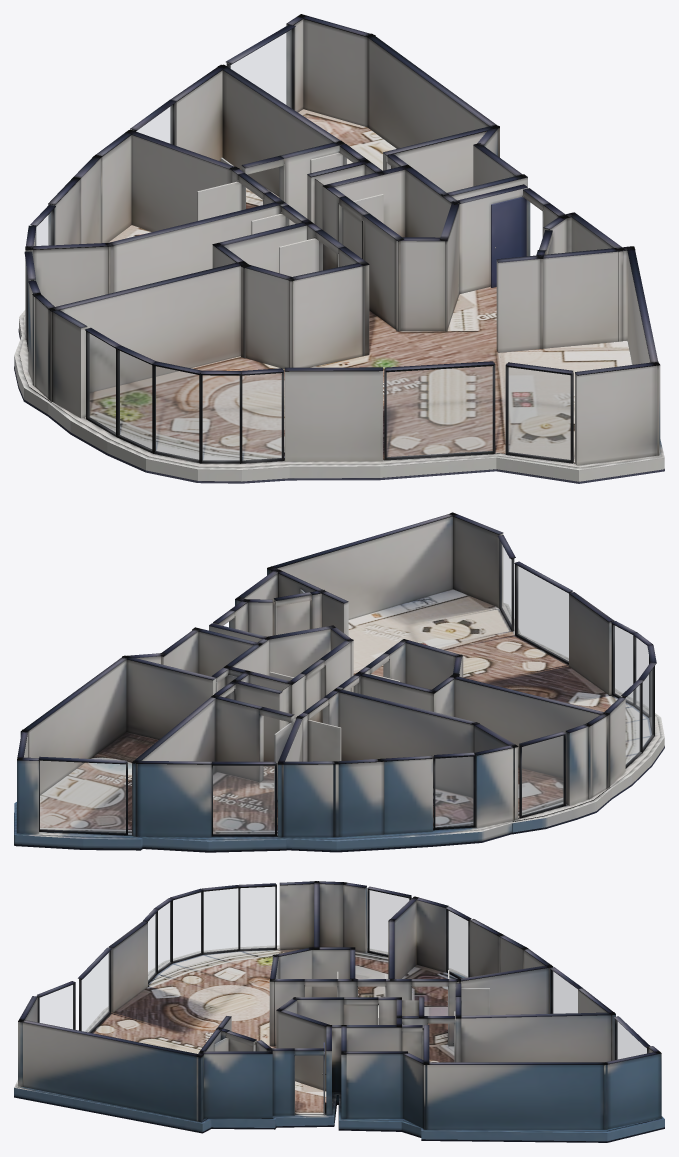
3 renders of one model, top to bottom at view 1: azimuth 30°, elevation 25°; view 2: azimuth 150°, elevation 25°; view 3: azimuth 270°, elevation 25°, orthographic. The views are drawn at different scales.
Parts seen in each view (by area): view 1: plan, glass9_m, glass10_m, glass6_m, glass8_m, glass7_m, glass5_m, glass1_m, glass4_m, glass0_m; view 2: plan, glass1_m, glass0_m, glass9_m, glass3_m, glass2_m, glass8_m, glass4_m, glass7_m, glass10_m, glass5_m; view 3: plan, glass5_m, glass4_m, glass6_m, glass9_m, glass3_m, glass2_m, glass10_m, glass0_m, glass7_m, glass1_m, glass8_m.
Boxes of the visible parts, box(x1,y1,x2,y2) form: plan: box(14, 14, 664, 483); glass9_m: box(387, 366, 492, 457); glass10_m: box(508, 367, 570, 460); glass6_m: box(155, 366, 198, 459); glass8_m: box(242, 373, 281, 460); glass7_m: box(202, 375, 239, 460); glass5_m: box(119, 351, 151, 449); glass1_m: box(231, 30, 291, 107); glass4_m: box(88, 333, 115, 433); glass0_m: box(136, 105, 172, 143); plan: box(14, 512, 664, 852); glass1_m: box(40, 761, 125, 833); glass0_m: box(213, 766, 274, 834); glass9_m: box(517, 566, 568, 661); glass3_m: box(522, 736, 563, 815); glass2_m: box(435, 757, 473, 827); glass8_m: box(614, 625, 632, 702); glass4_m: box(626, 685, 640, 764); glass7_m: box(635, 637, 648, 714); glass10_m: box(501, 543, 511, 625); glass5_m: box(643, 669, 652, 747); plan: box(14, 881, 664, 1142); glass5_m: box(204, 888, 238, 952); glass4_m: box(240, 887, 274, 948); glass6_m: box(173, 893, 201, 960); glass9_m: box(82, 952, 109, 1032); glass3_m: box(369, 890, 408, 954); glass2_m: box(448, 910, 467, 977); glass10_m: box(40, 985, 73, 1028); glass0_m: box(552, 971, 577, 1013); glass7_m: box(158, 902, 170, 970); glass1_m: box(617, 1021, 646, 1059); glass8_m: box(148, 914, 155, 980).
Size of the model in its own units: 14.09 by 2.62 by 20.55.
2 materials, 1 textured.
